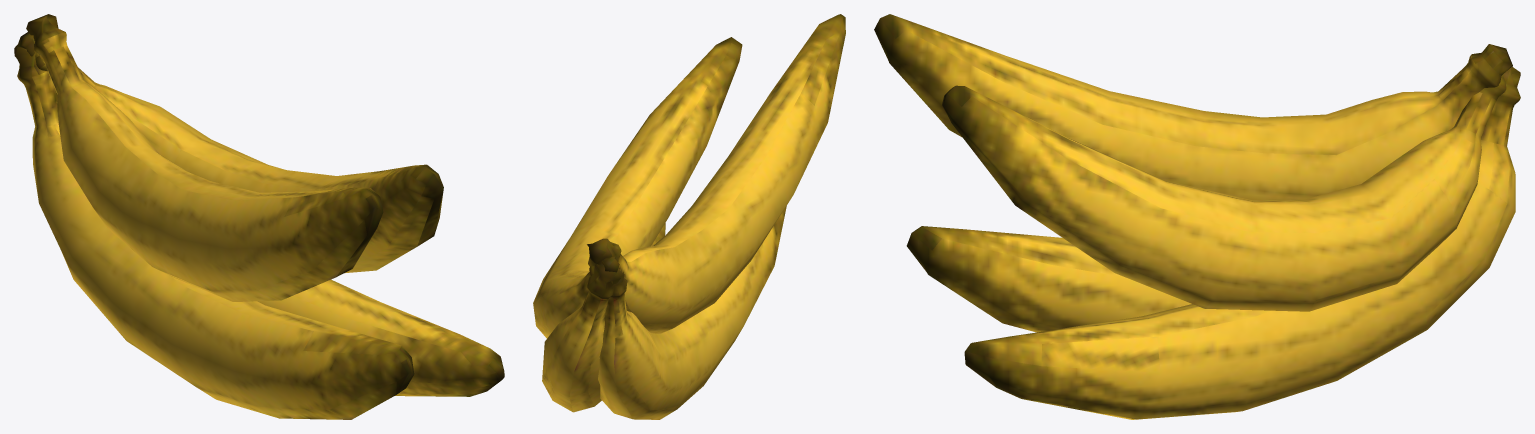
File: SM_配餐室_水果蔬菜_06.fbx
3 views of the same model, side by side, from view 1: azimuth 30°, elevation 25°; view 2: azimuth 150°, elevation 25°; view 3: azimuth 270°, elevation 25° (orthographic). The views are drawn at different scales.
Visible parts, largest first — view 1: SM_配餐室_水果蔬菜_06; view 2: SM_配餐室_水果蔬菜_06; view 3: SM_配餐室_水果蔬菜_06.
Part boxes in pixels (x1,y1,x2,y2): SM_配餐室_水果蔬菜_06: (14,14,504,419); SM_配餐室_水果蔬菜_06: (533,14,845,419); SM_配餐室_水果蔬菜_06: (874,14,1520,419).
Bounding box in the file's own units: 76.4 × 102 × 175.
